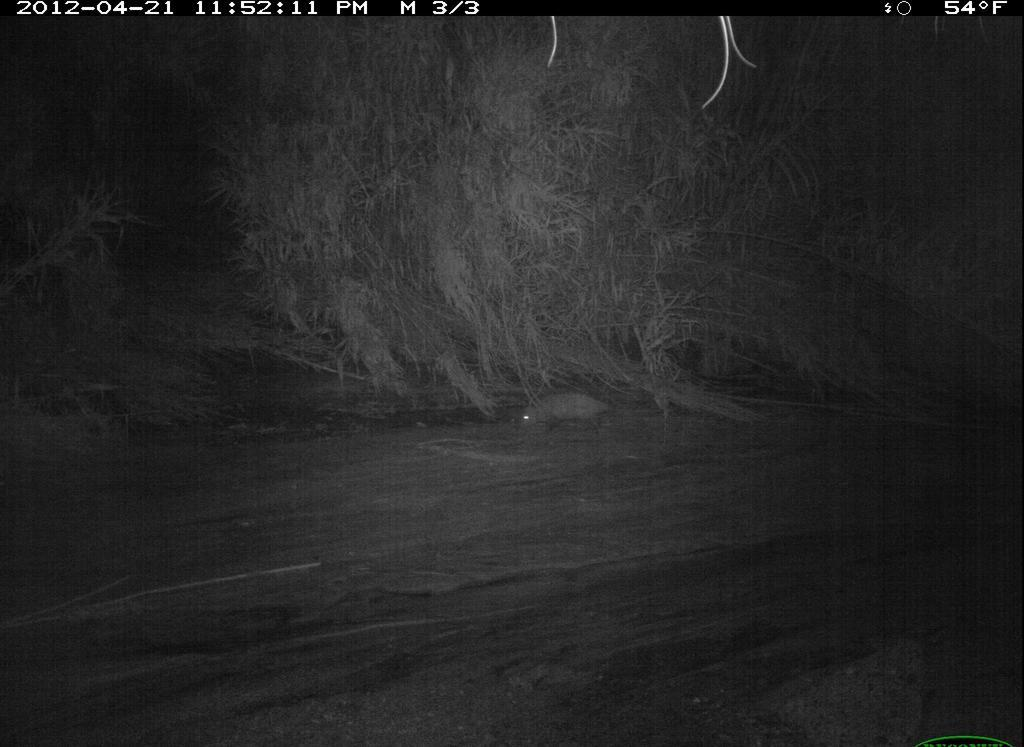opossum: (497, 383, 657, 442)
